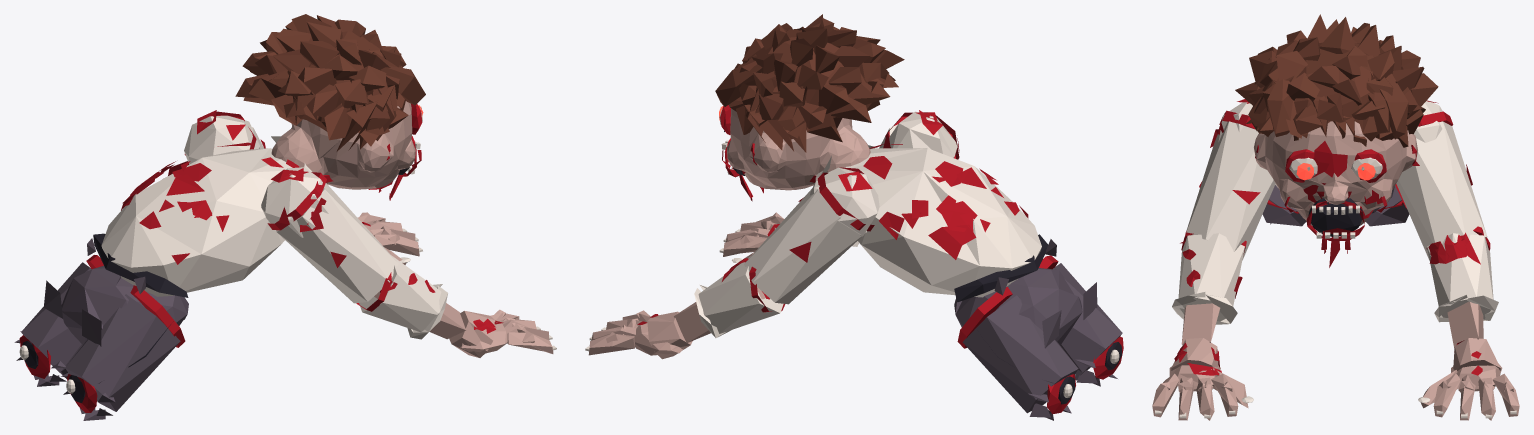
3 views of the same model, side by side, from view 1: azimuth 30°, elevation 25°; view 2: azimuth 150°, elevation 25°; view 3: azimuth 270°, elevation 25° (orthographic). The views are drawn at different scales.
Visible parts, largest first — view 1: head, torso, armR, legR, hip, foreArmR, legL, handR, armL, handL, stump_legR, stump_armR; view 2: head, torso, armL, legL, hip, foreArmL, legR, handL, armR, handR, stump_legL, stump_armL; view 3: head, armR, armL, foreArmL, foreArmR, handR, handL, legR, legL.
Boxes of the visible parts, bbox=[...] form: head: bbox=[235, 14, 425, 200]; torso: bbox=[101, 136, 311, 296]; armR: bbox=[261, 167, 398, 303]; legR: bbox=[61, 294, 180, 420]; hip: bbox=[43, 233, 188, 346]; foreArmR: bbox=[359, 255, 466, 339]; legL: bbox=[14, 262, 91, 386]; handR: bbox=[449, 309, 556, 357]; armL: bbox=[184, 110, 265, 164]; handL: bbox=[357, 212, 422, 264]; stump_legR: bbox=[130, 285, 185, 347]; stump_armR: bbox=[267, 172, 326, 230]; head: bbox=[715, 14, 904, 201]; torso: bbox=[815, 144, 1041, 297]; armL: bbox=[744, 167, 879, 304]; legL: bbox=[962, 295, 1078, 420]; hip: bbox=[954, 234, 1097, 348]; foreArmL: bbox=[674, 256, 783, 342]; legR: bbox=[1052, 263, 1123, 386]; handL: bbox=[585, 310, 692, 359]; armR: bbox=[879, 110, 959, 157]; handR: bbox=[719, 212, 784, 263]; stump_legL: bbox=[957, 287, 1012, 348]; stump_armL: bbox=[817, 172, 874, 231]; head: bbox=[1235, 14, 1438, 253]; armR: bbox=[1184, 99, 1275, 260]; armL: bbox=[1395, 100, 1487, 260]; foreArmL: bbox=[1427, 232, 1498, 348]; foreArmR: bbox=[1172, 233, 1244, 344]; handR: bbox=[1152, 338, 1253, 420]; handL: bbox=[1418, 338, 1519, 420]; legR: bbox=[1262, 185, 1306, 226]; legL: bbox=[1366, 186, 1409, 226].
Size of the model in its own units: 1.5 by 1.04 by 1.05.
